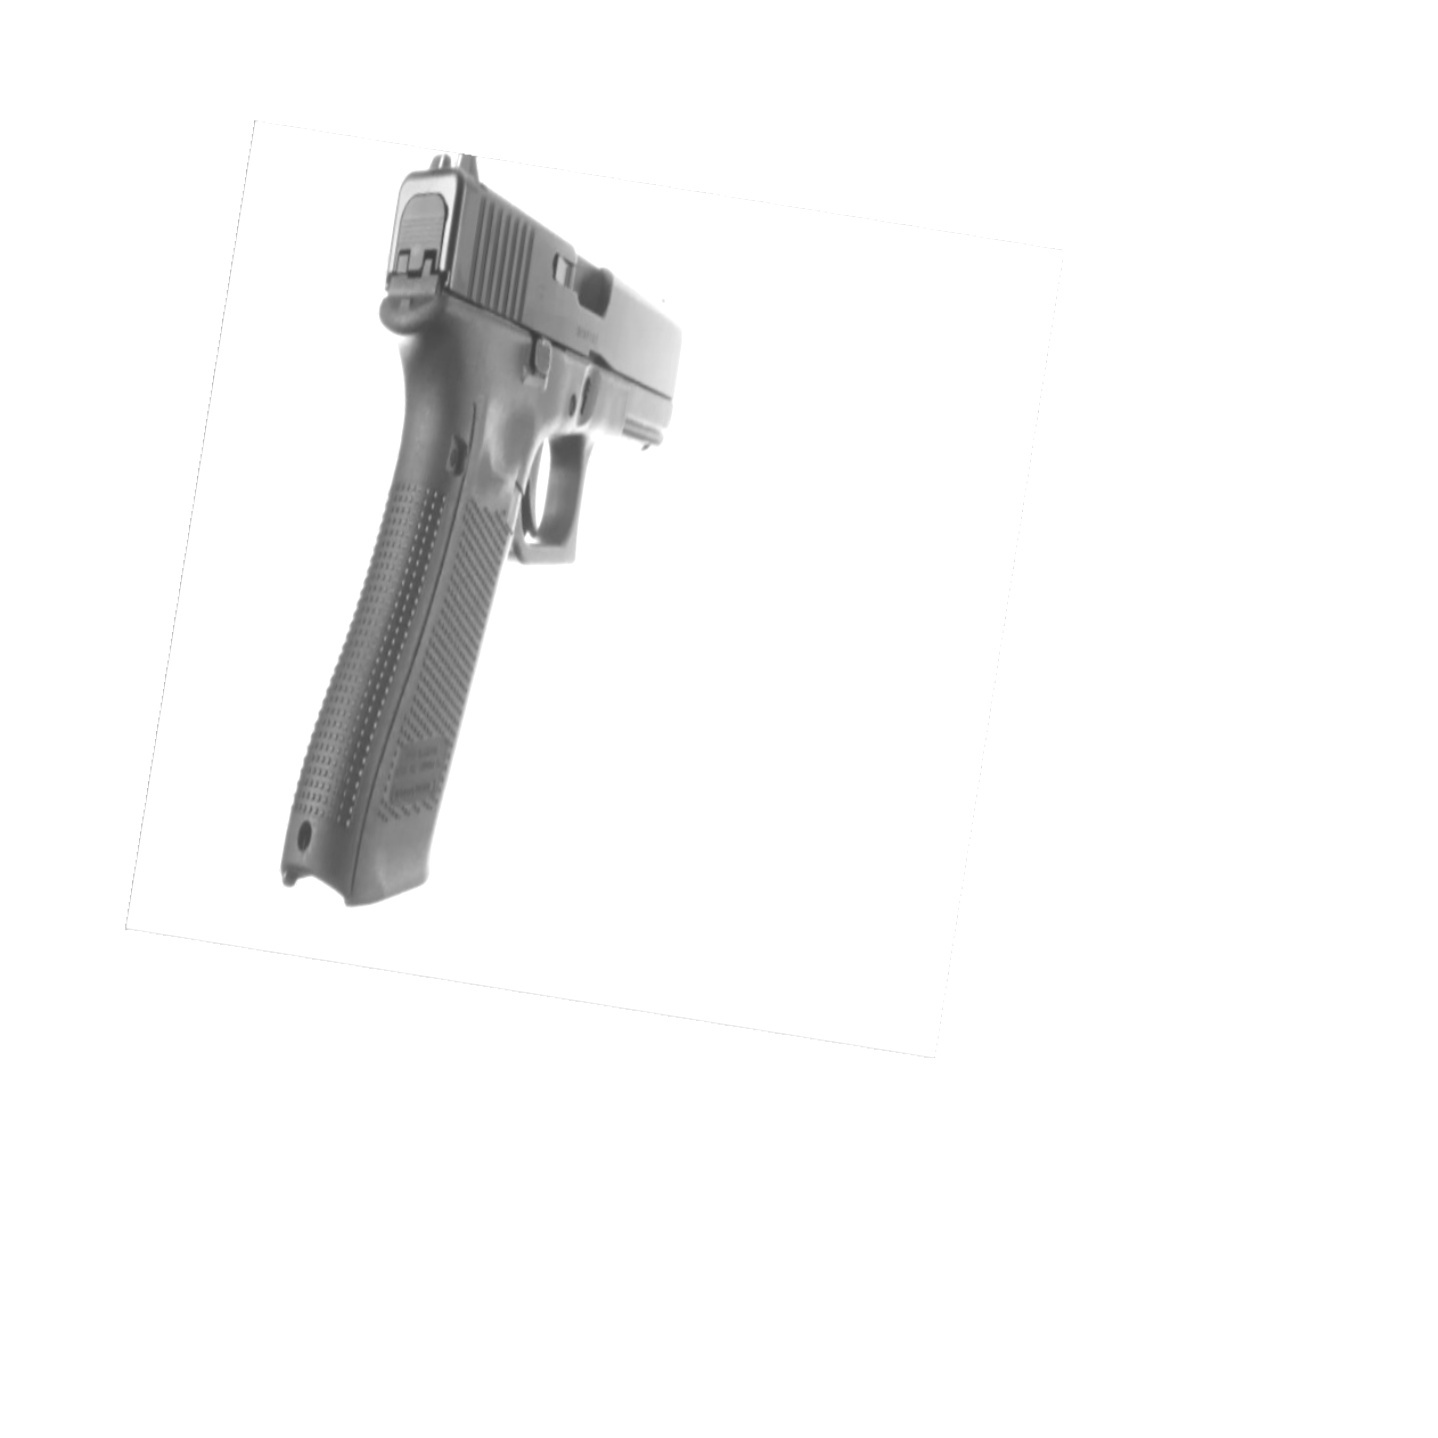gun: (280, 151, 678, 909)
